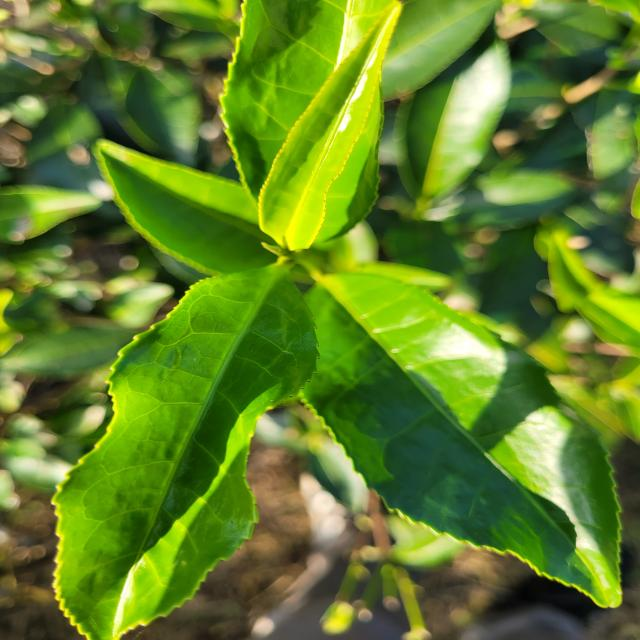Category B(2-4 days): (38, 219, 346, 640)
